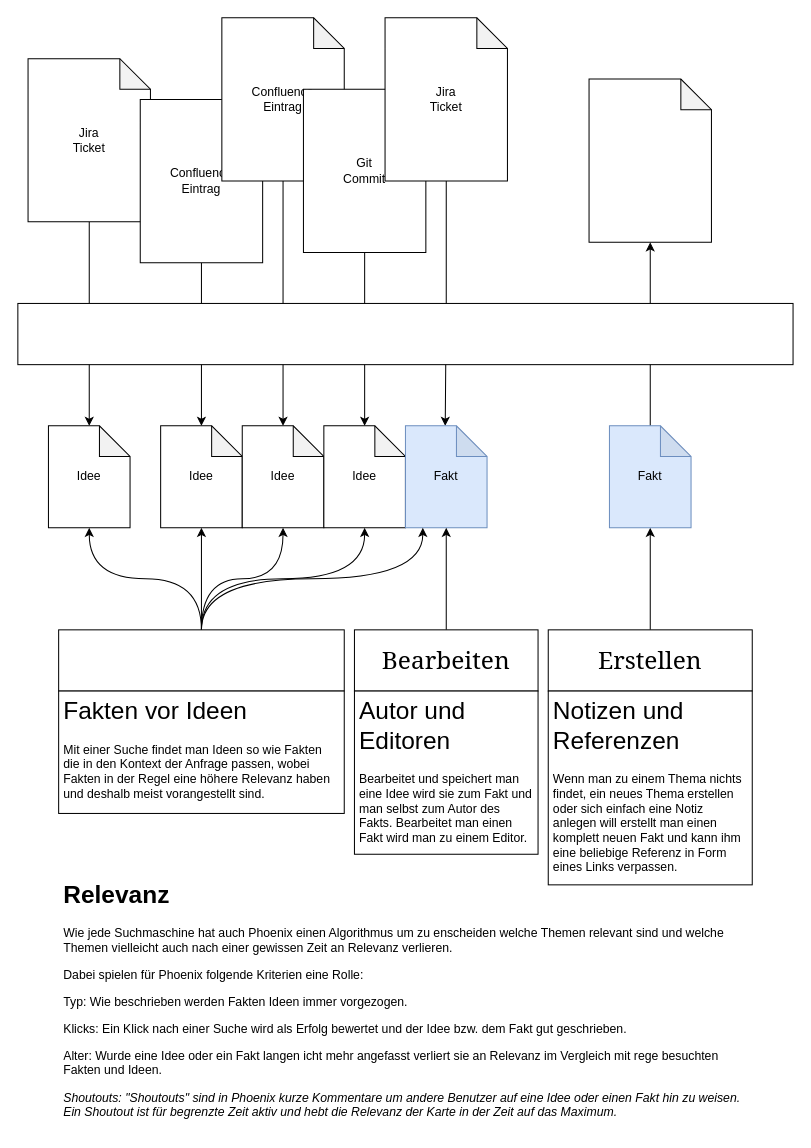
This 811x1148 diagram has some shape labels left out. Each missing label, with the centre of its shape:
"Beliebige Web Referenz" goes at [649,160].
"Phoenix" goes at [405,333].
"Suchen" goes at [201,660].
